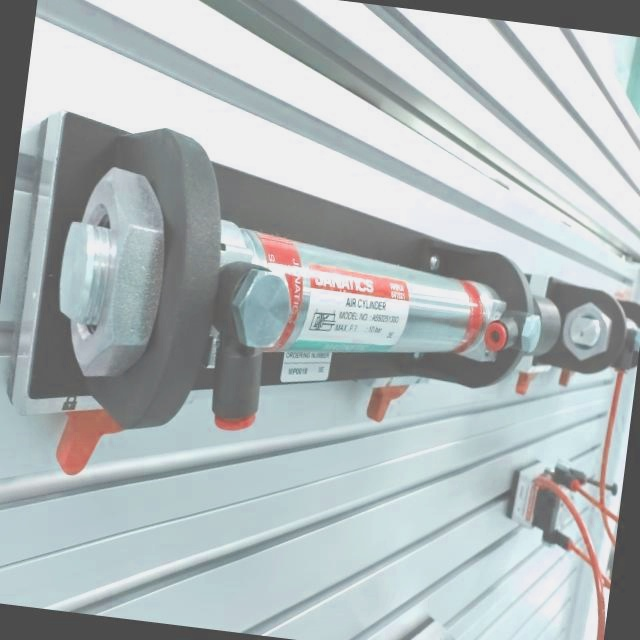double acting pneumatic cylinder: (2, 72, 588, 545)
